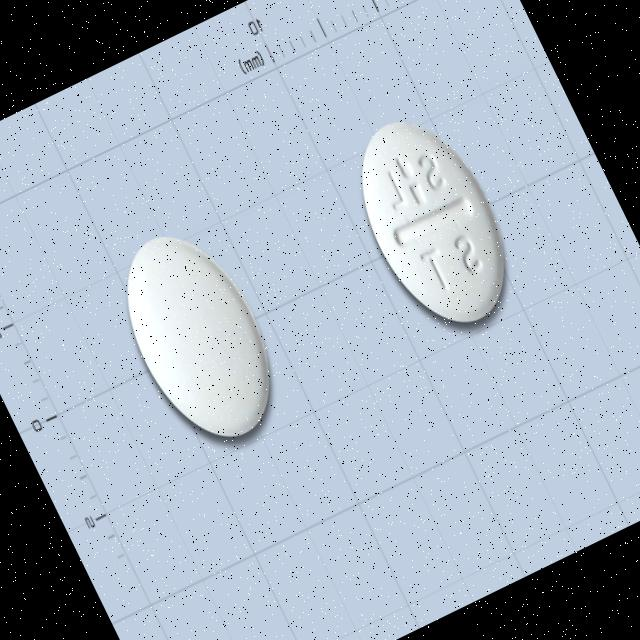Septrin: (95, 211, 298, 458), (330, 98, 532, 345)
